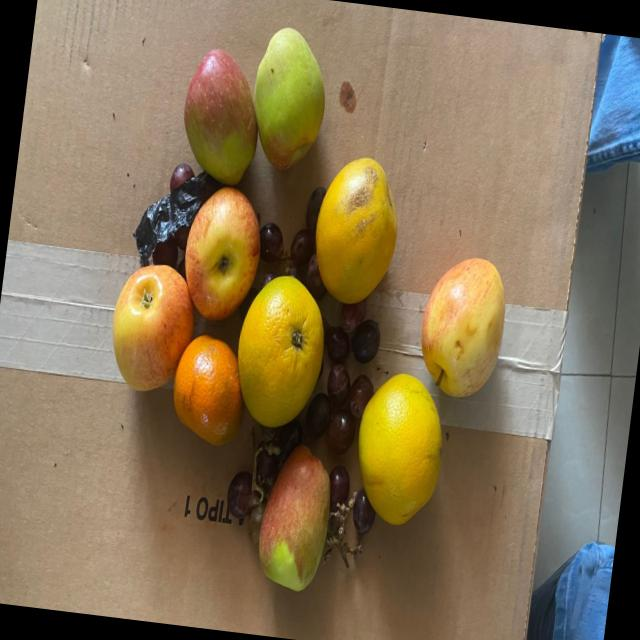bolsa_negra: (131, 174, 215, 280)
